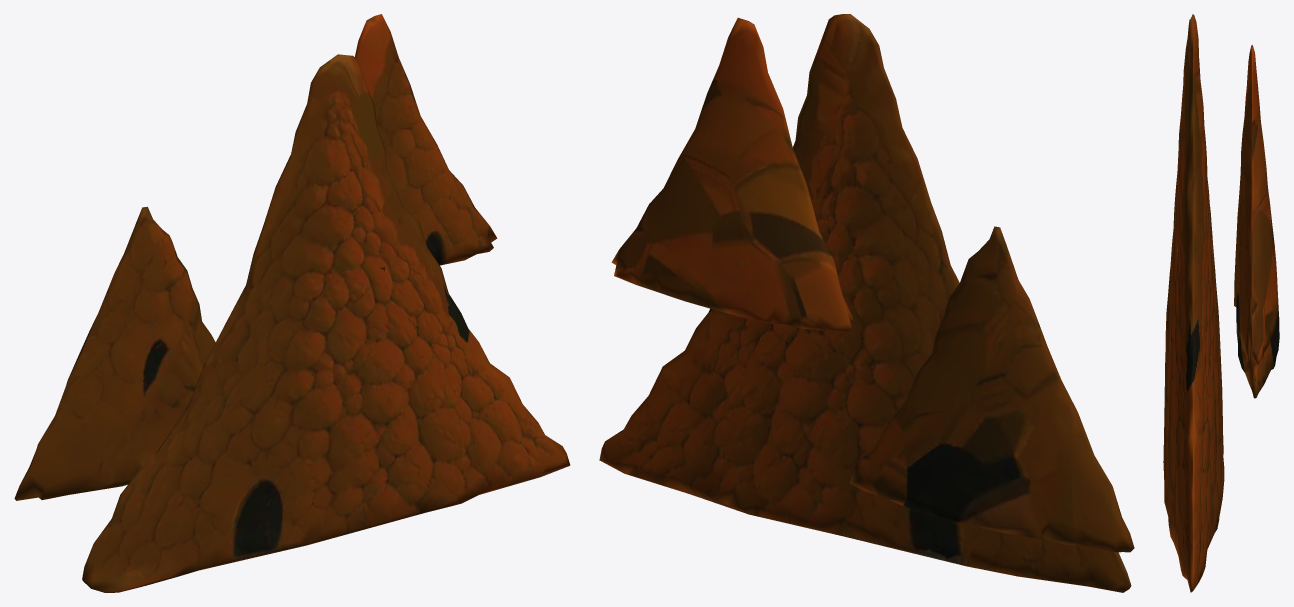
Rendered from toad-prop3d-termite-towers.glb.
The picture shows the model from 3 angles, left to right: view 1: azimuth 30°, elevation 25°; view 2: azimuth 150°, elevation 25°; view 3: azimuth 270°, elevation 25°; orthographic projection. The views are drawn at different scales.
Parts seen in each view (by area): view 1: world; view 2: world; view 3: world.
Boxes of the visible parts, box(x1,y1,x2,y2) form: world: box(14, 14, 570, 592); world: box(599, 14, 1134, 592); world: box(1163, 14, 1279, 592).
Bounding box in the file's own units: 0.52 × 0.45 × 0.1.
Materials: 1 (1 with a texture image).
